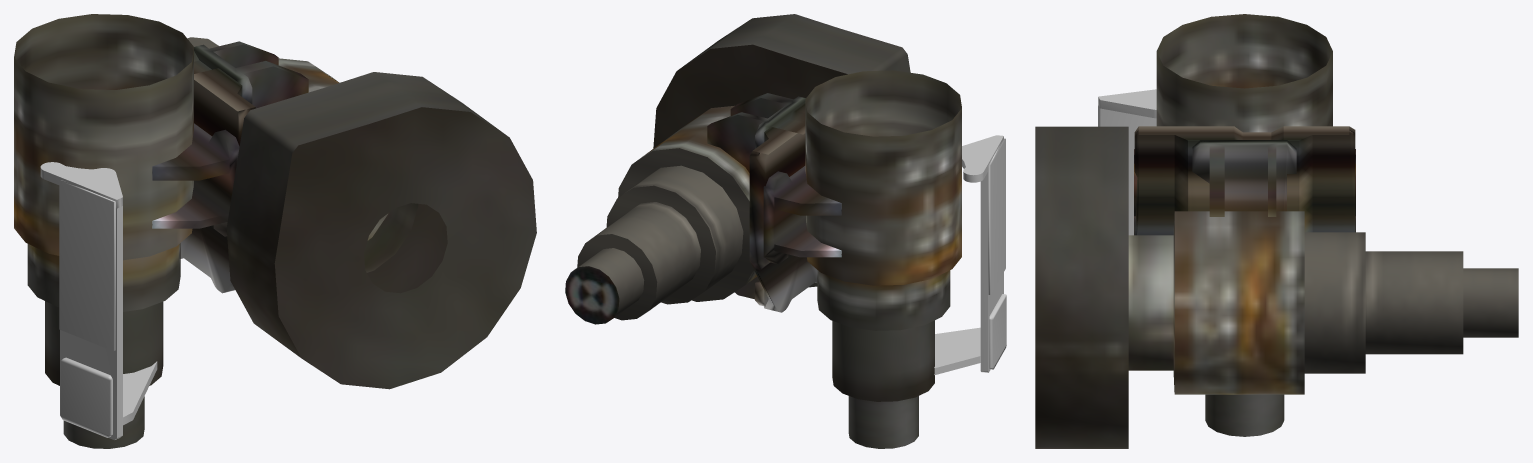
The model's file is Body_ArmShoulderAzimuth.dae.
3 renders of one model, left to right at view 1: azimuth 30°, elevation 25°; view 2: azimuth 150°, elevation 25°; view 3: azimuth 270°, elevation 25°, orthographic. The views are drawn at different scales.
Parts seen in each view (by area): view 1: arm_01.001, MAHLI_cal_target; view 2: arm_01.001, MAHLI_cal_target; view 3: arm_01.001, MAHLI_cal_target.
Boxes of the visible parts, box(x1,y1,x2,y2) form: arm_01.001: box(14, 14, 536, 448); MAHLI_cal_target: box(40, 162, 157, 440); arm_01.001: box(565, 14, 961, 448); MAHLI_cal_target: box(934, 135, 1006, 374); arm_01.001: box(1035, 14, 1518, 448); MAHLI_cal_target: box(1098, 89, 1156, 235).
Bounding box in the file's own units: 0.3417 × 0.3569 × 0.3005.
3 materials, 2 textured.
